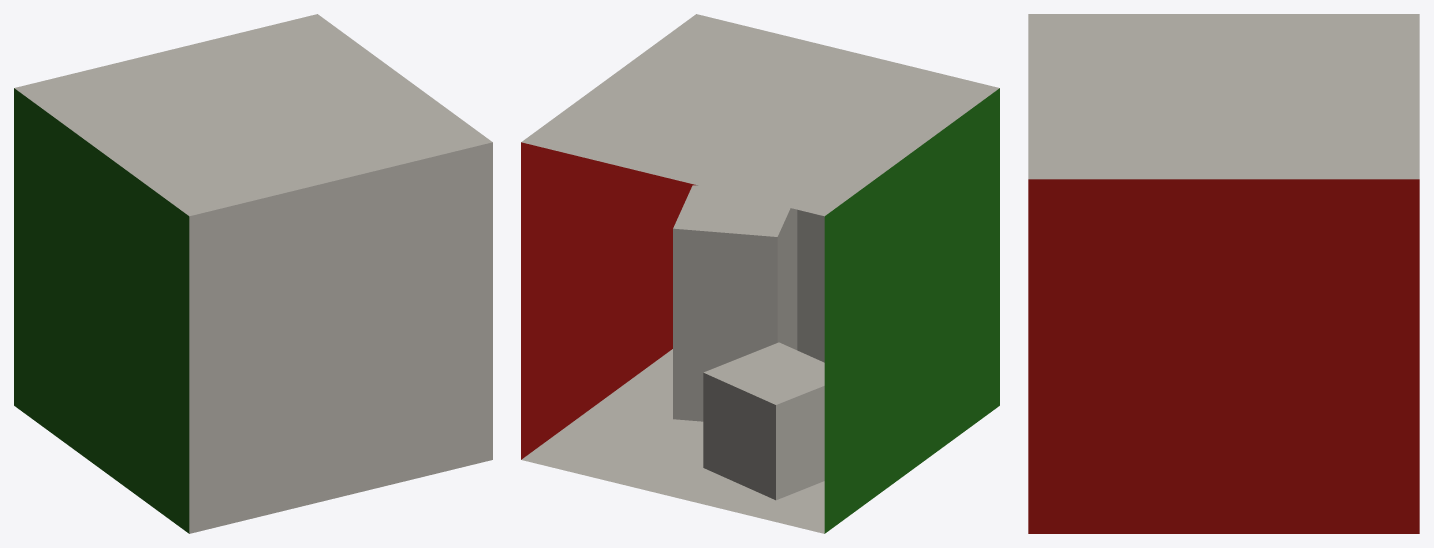
Rendered from cornell.obj.
The picture shows the model from 3 angles, left to right: view 1: azimuth 30°, elevation 25°; view 2: azimuth 150°, elevation 25°; view 3: azimuth 270°, elevation 25°; orthographic projection. The views are drawn at different scales.
Parts seen in each view (by area): view 1: BackWall, RightWall, Ceiling; view 2: RightWall, Ceiling, LeftWall, TallBox, Floor, ShortBox, BackWall; view 3: LeftWall, Ceiling.
Part boxes in pixels (x1,y1,x2,y2): BackWall: (189, 142, 492, 533); RightWall: (14, 88, 189, 533); Ceiling: (14, 14, 492, 216); RightWall: (824, 88, 999, 533); Ceiling: (521, 14, 999, 216); LeftWall: (521, 142, 695, 459); TallBox: (673, 185, 797, 421); Floor: (521, 349, 824, 533); ShortBox: (703, 342, 824, 500); BackWall: (696, 185, 824, 362); LeftWall: (1028, 179, 1419, 533); Ceiling: (1028, 14, 1419, 179).
Size of the model in its own units: 20 by 20 by 20.
